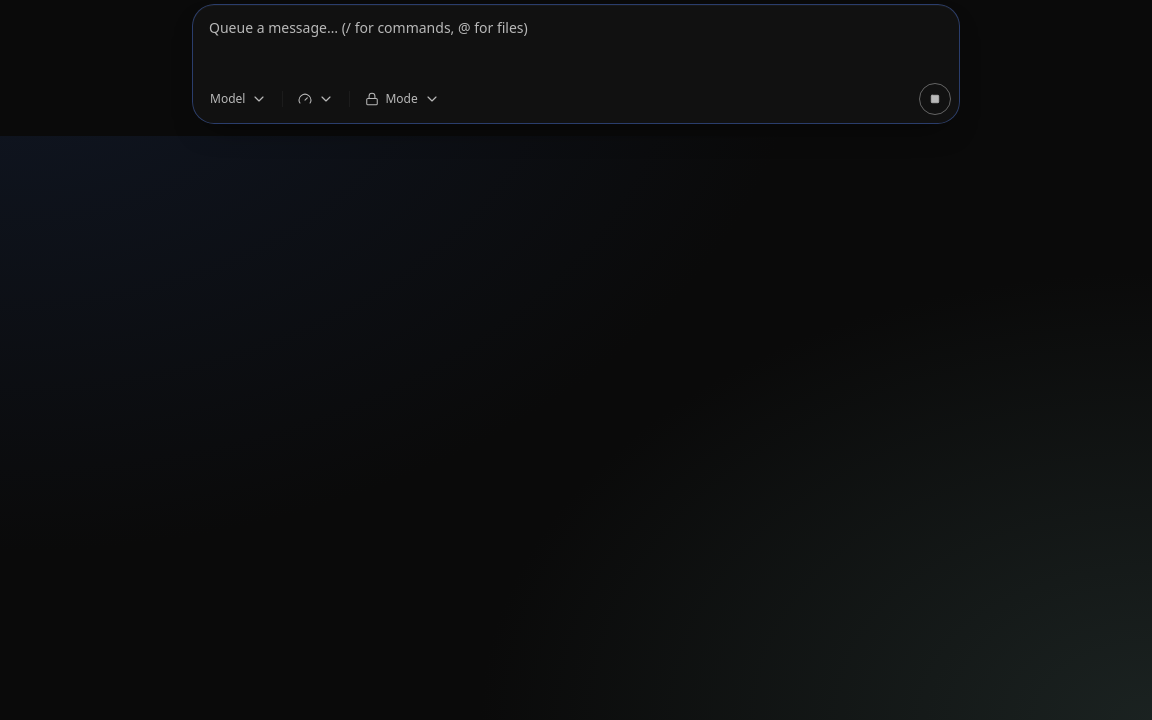
Test: Composer steer › gives the draft back when the steer is rejected
This screenshot has width=1152, height=720.
Type "too late" into the dropdown labelled "message".
click(576, 44); type("too late")  # box 193,5 -> 959,83
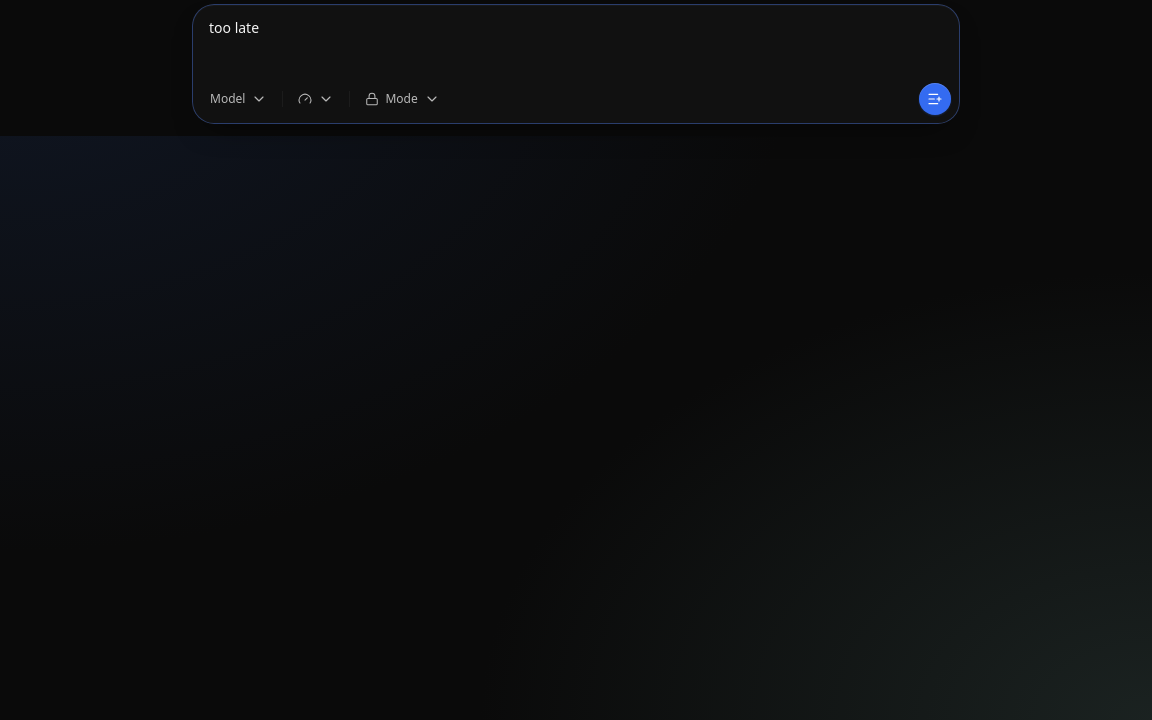
Click the button named "Queue".
click(935, 99)  # box 919,83 -> 951,115
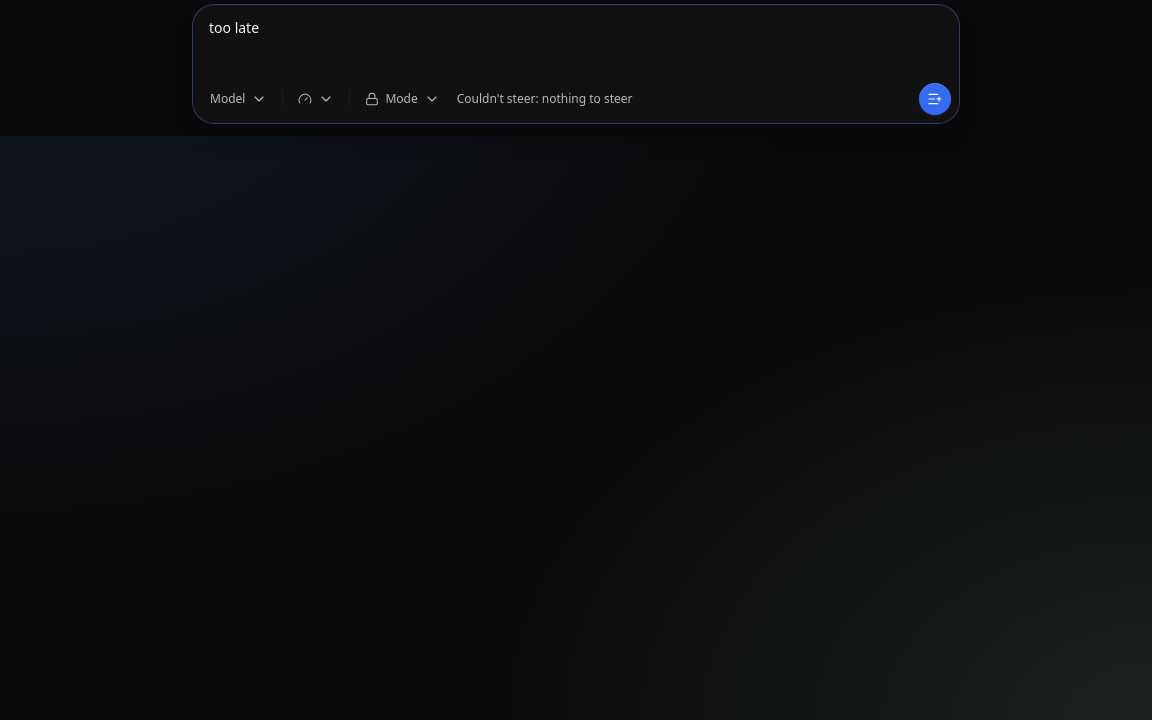
Now the text "Couldn't steer: nothing to steer" is shown, box 457,90 -> 632,107
